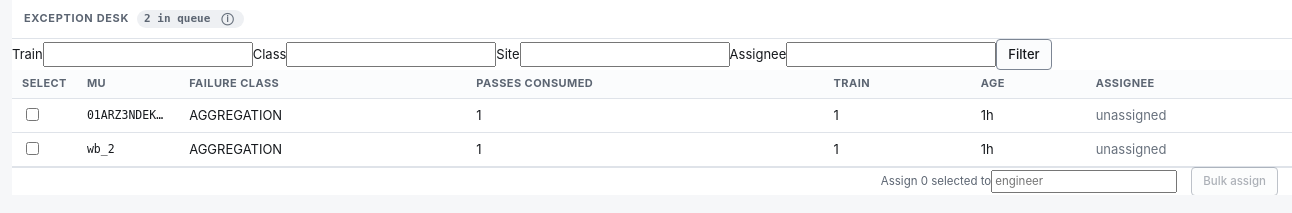
Test: bulk assign › lets a migration engineer select cases and bulk assign them
Click the checkbox named "Select exc_1": (32, 114) [26,108,39,121]
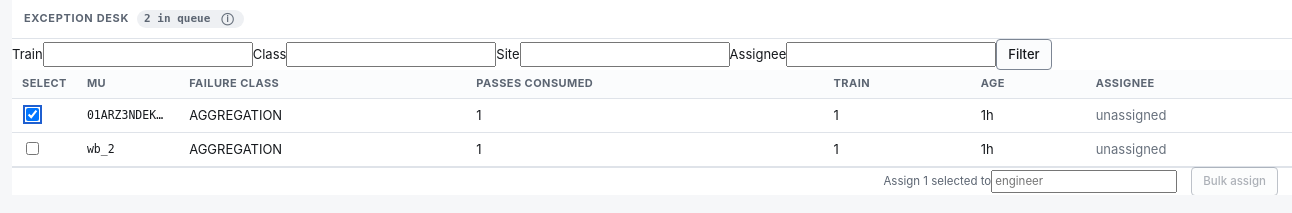
Click the checkbox named "Select exc_2": (32, 149) [26,142,39,155]
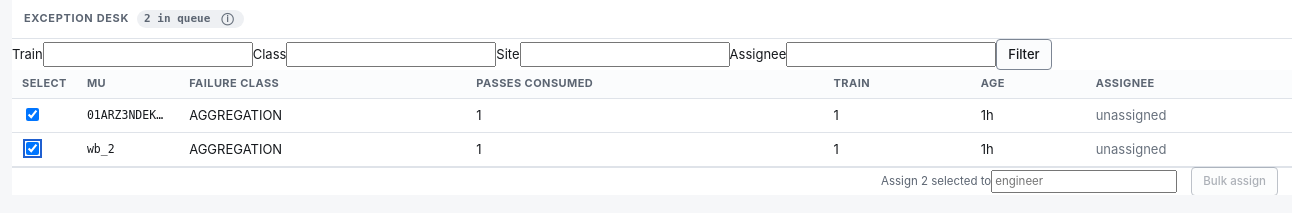
In the field with placeholder "engineer": (1084, 182) [991,170,1177,193], type "a.mehta@artizent.example"
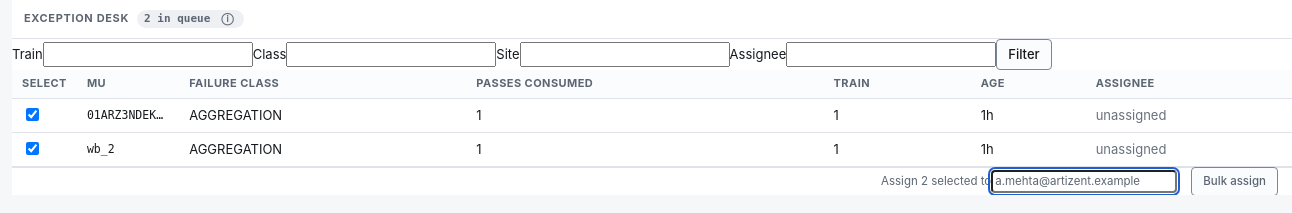
Click the button "Bulk assign": (1235, 182) [1191,167,1278,196]
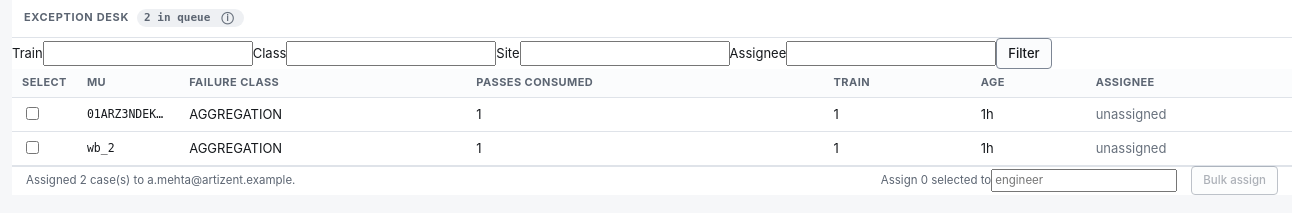
Check: the text "Assigned 2 case(s) to a.mehta@artizent.example." is shown, box [26,172,295,189]
